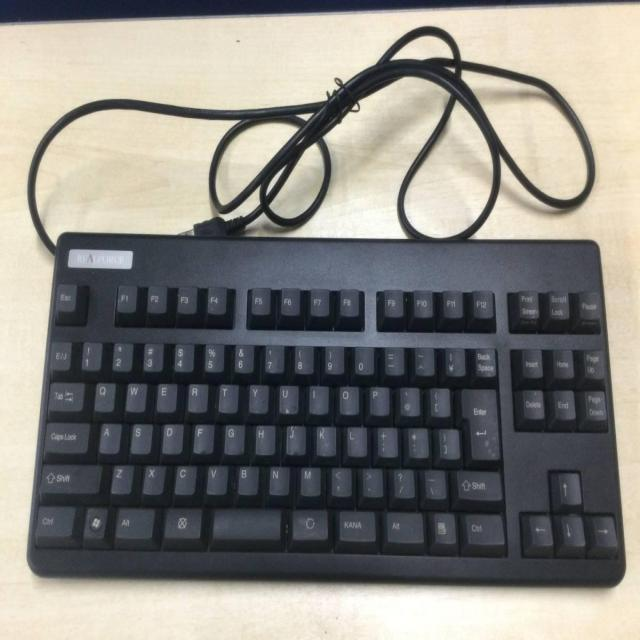keyboard: (27, 237, 623, 585)
